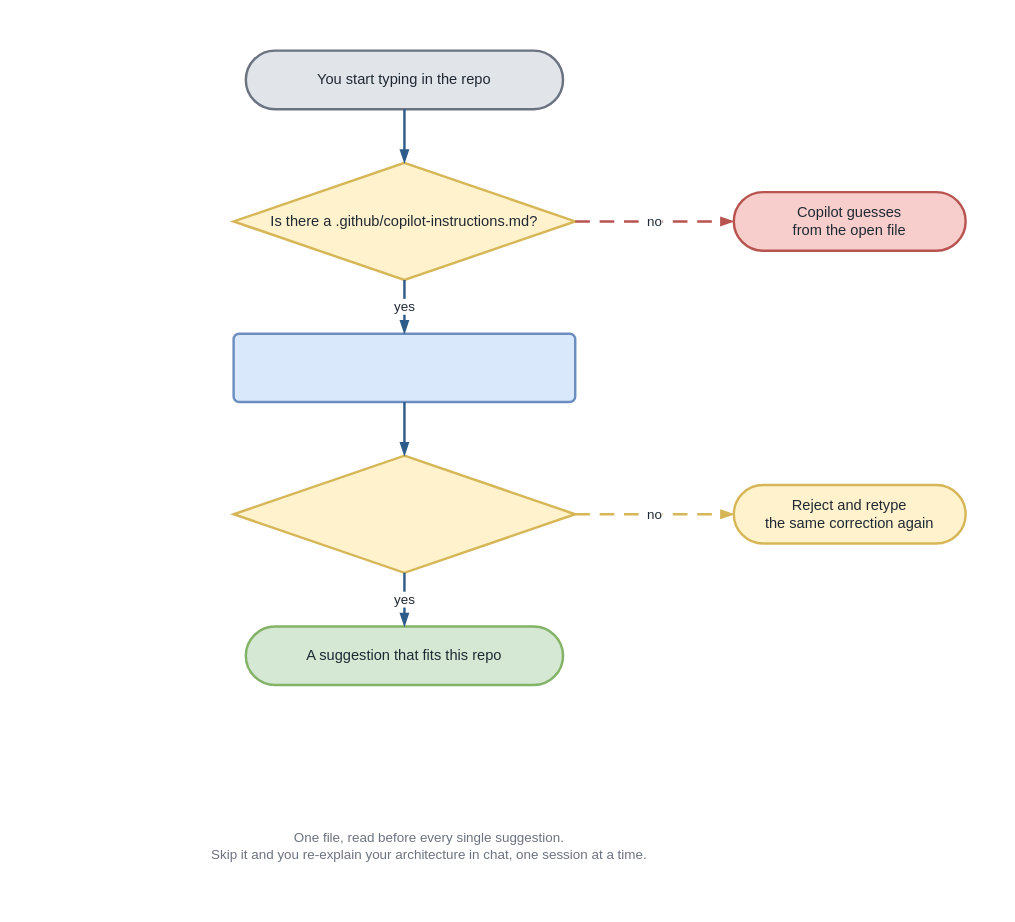
Image size: 1015x922. Some labels were removed from this diagram. Here are the shapes that lost their labels. From the top down, the box of each, then its label:
(232, 332, 576, 403): Copilot reads it, before the suggestion
(232, 454, 576, 573): Does the suggestion match your conventions?
